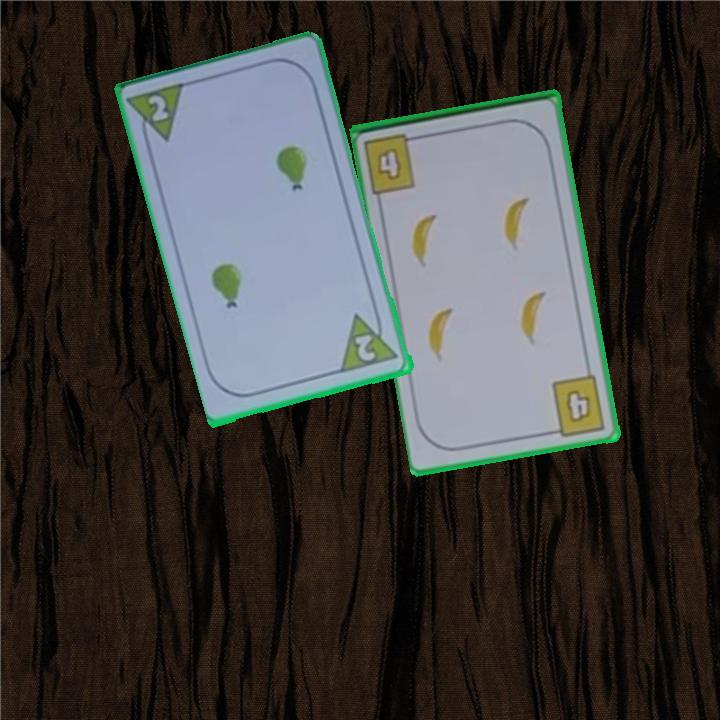2p: (351, 331, 379, 365), (145, 91, 172, 125)
4b: (360, 129, 426, 197), (546, 371, 609, 439)
